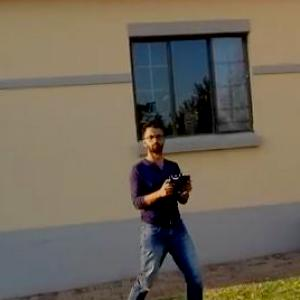follow: (116, 114, 219, 299)
